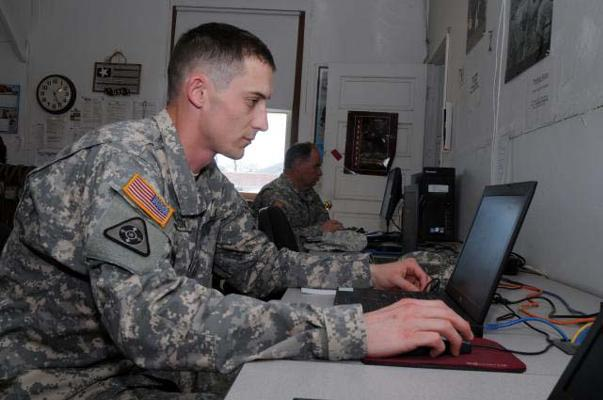person: (6, 24, 476, 400)
